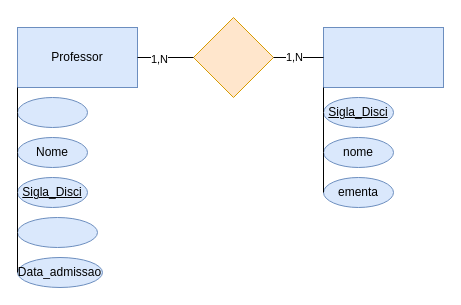
The diagram is 461 pixels wide and 305 high, and some of its shapes have lost their labels. The centre of each missing label's shape, as x and y in pixels:
Cod_Iden: (x=52, y=112)
Disciplina: (x=383, y=57)
Especialidade: (x=57, y=232)
Tem: (x=233, y=57)
